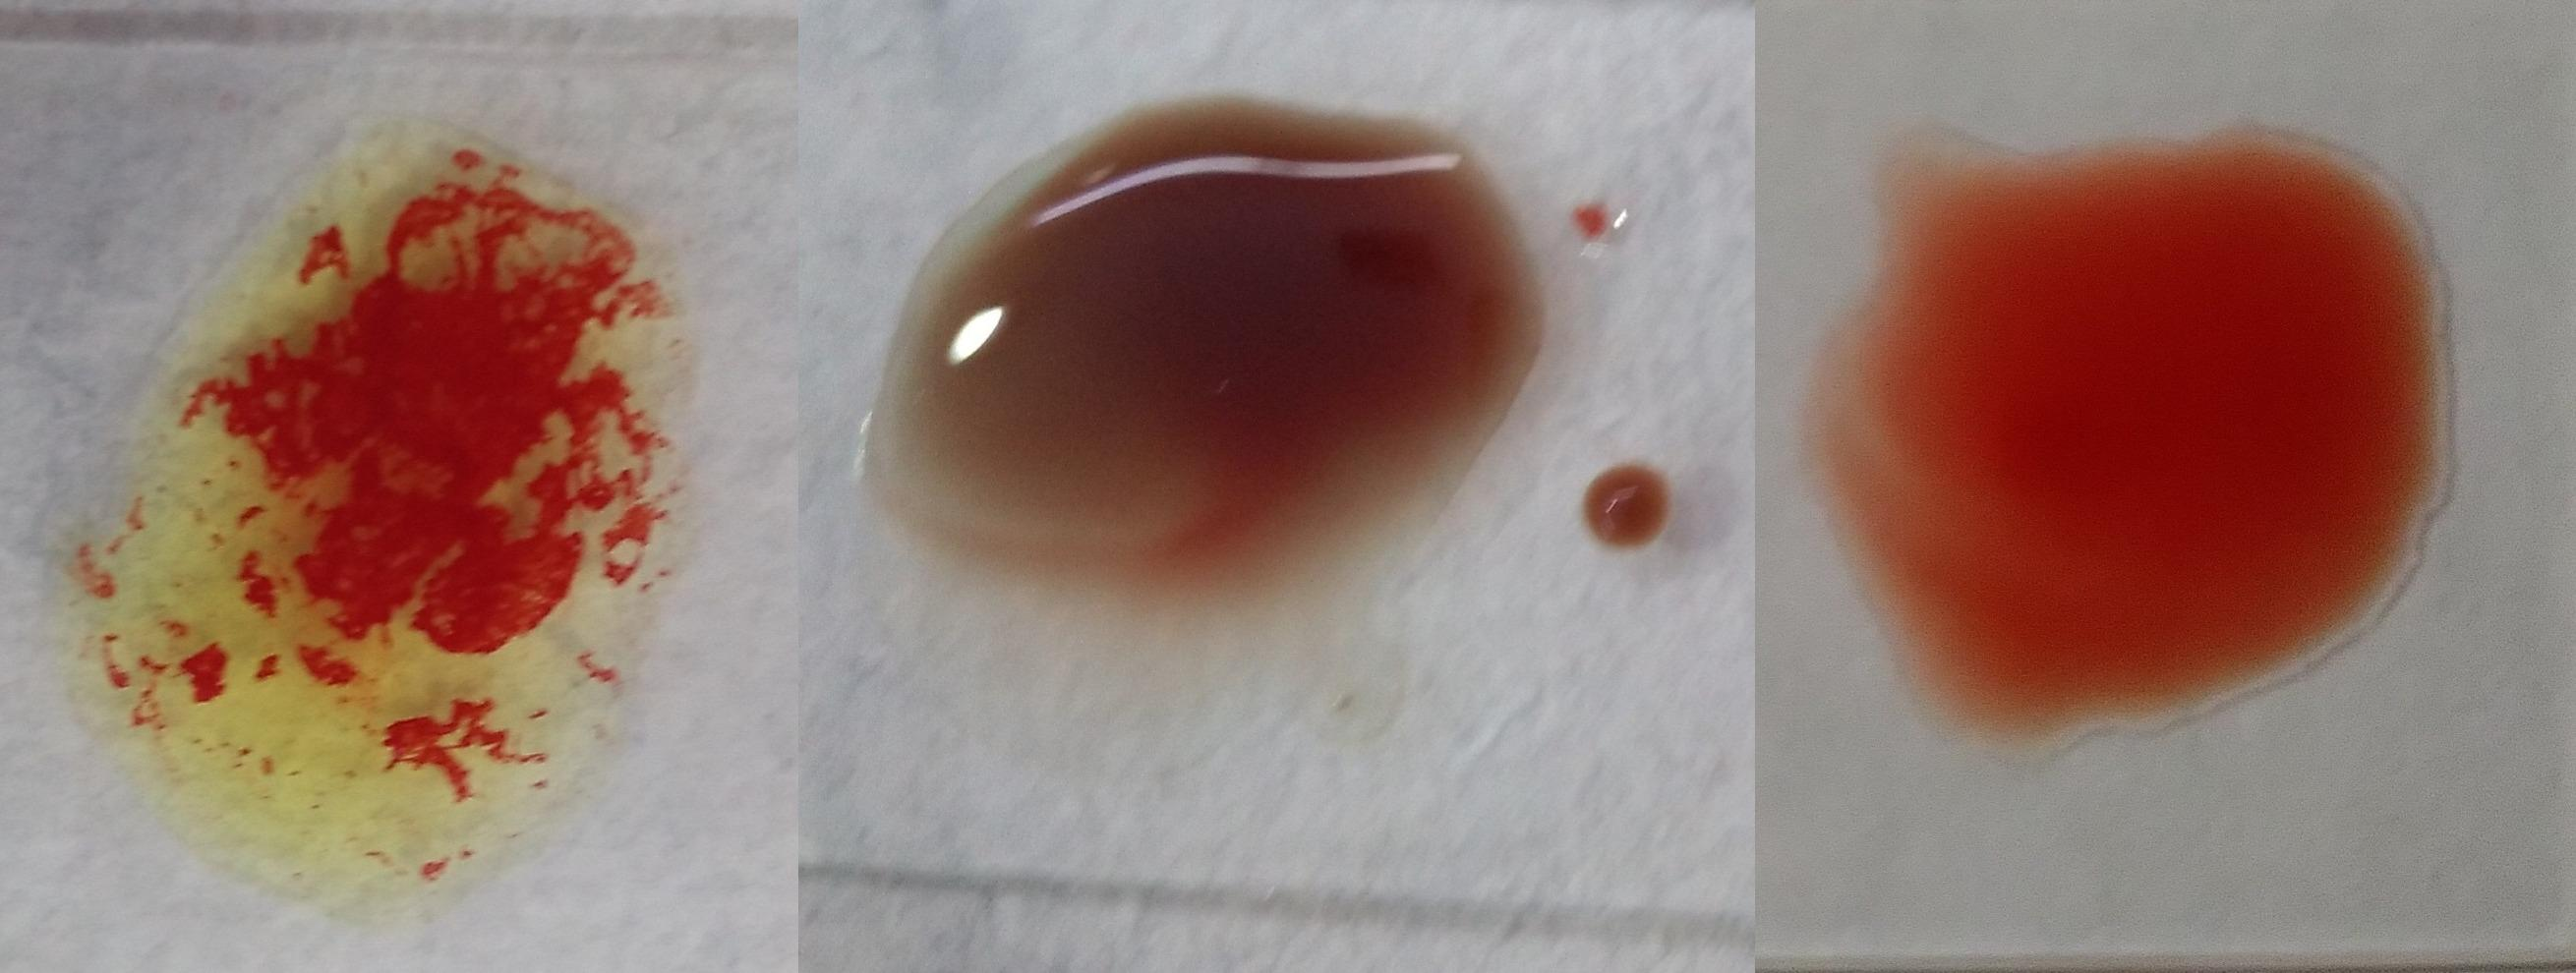B: (118, 130, 675, 902)
